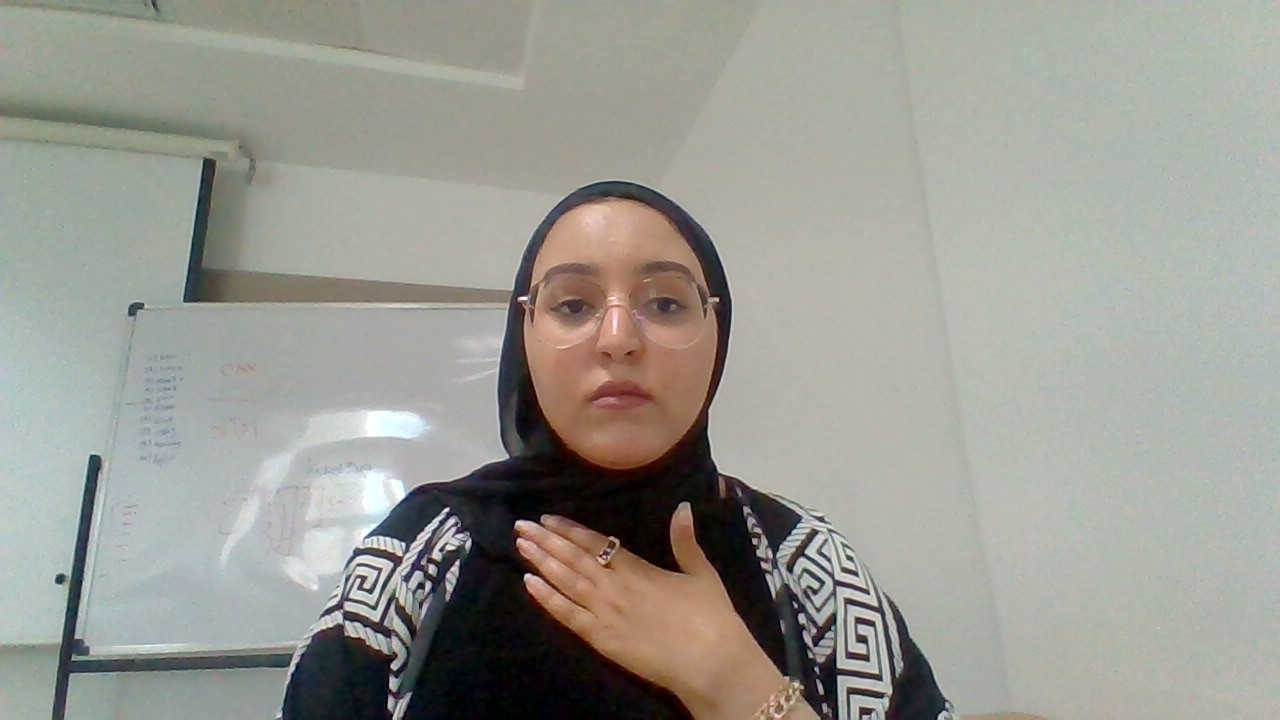please: (489, 473, 751, 688)
